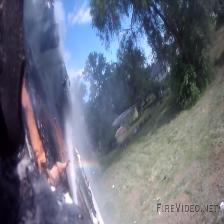smoke: (18, 0, 113, 224)
